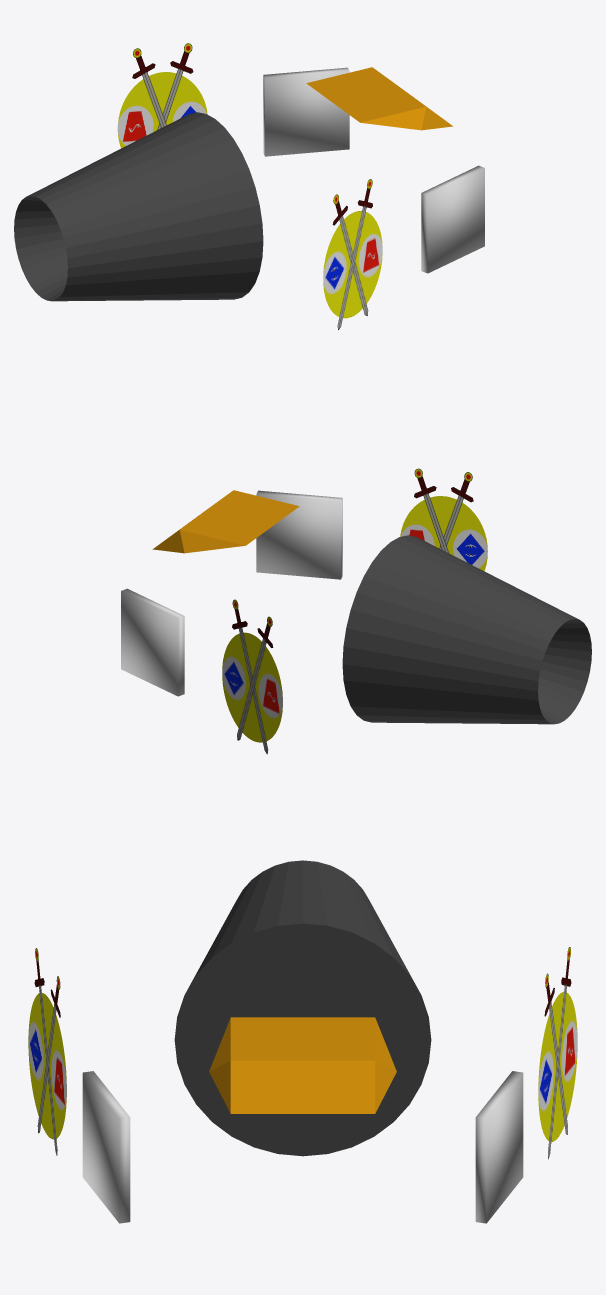
The model's file is RazerShip(Model).fbx.
3 views of the same model, one above another, from view 1: azimuth 30°, elevation 25°; view 2: azimuth 150°, elevation 25°; view 3: azimuth 270°, elevation 25° (orthographic). The views are drawn at different scales.
Visible parts, largest first — view 1: RazerShip; view 2: RazerShip; view 3: RazerShip.
Part boxes in pixels (left/top/right/bottom): RazerShip: left=14, top=43, right=484, bottom=329; RazerShip: left=121, top=468, right=591, bottom=754; RazerShip: left=28, top=860, right=577, bottom=1223.
Size of the model in its own units: 137 by 60.52 by 100.
